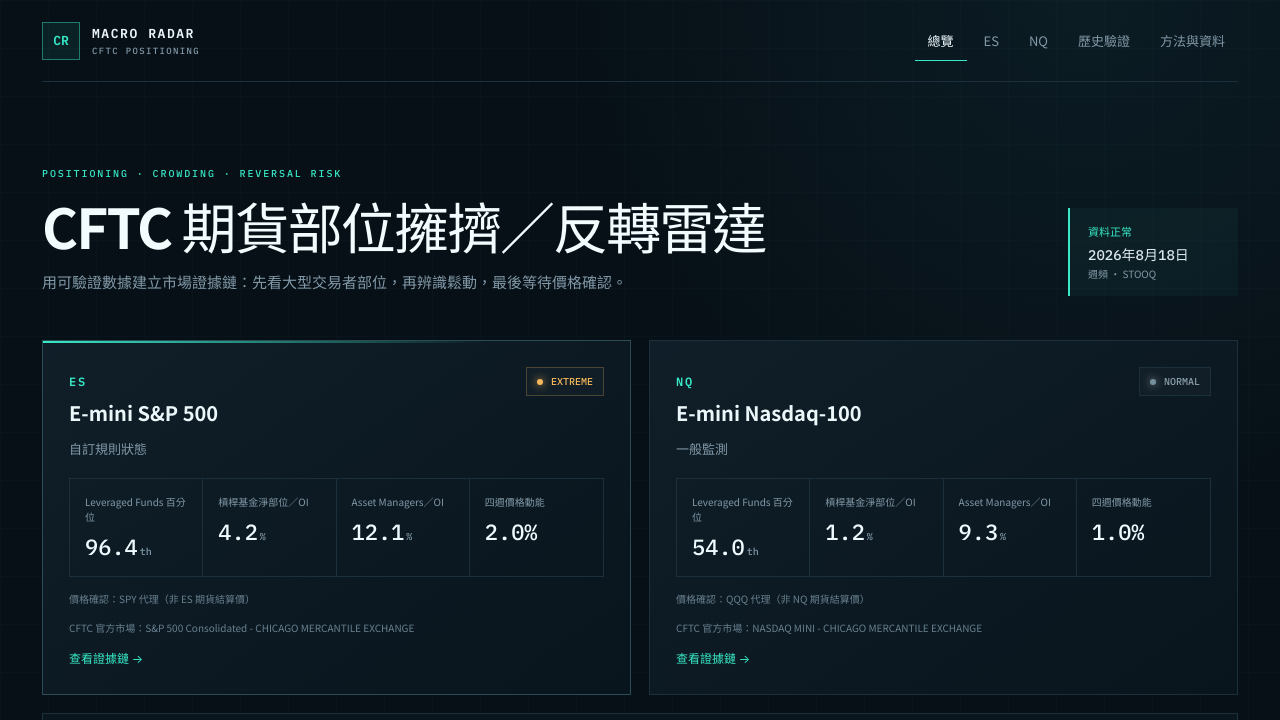
Test: COT Radar › navigates to historical validation and methodology
The image size is (1280, 720).
Expected: the heading "E-mini S&P 500" is shown, [69,398,218,427]
Click the button "歷史驗證" at coordinates (1104, 40), box [1065,20,1143,60]
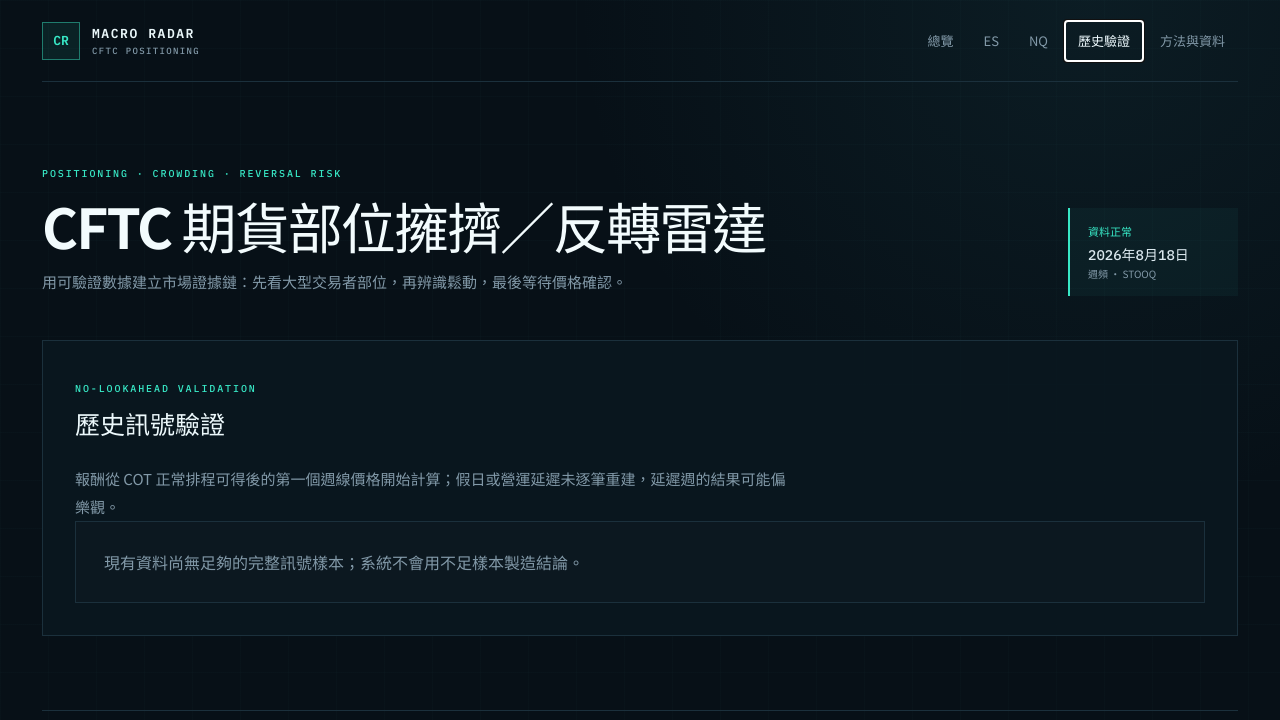
Result: the heading "歷史訊號驗證" is shown at [75,405,225,441]
Click the button "方法與資料" at coordinates (1192, 40), box [1147,20,1238,60]
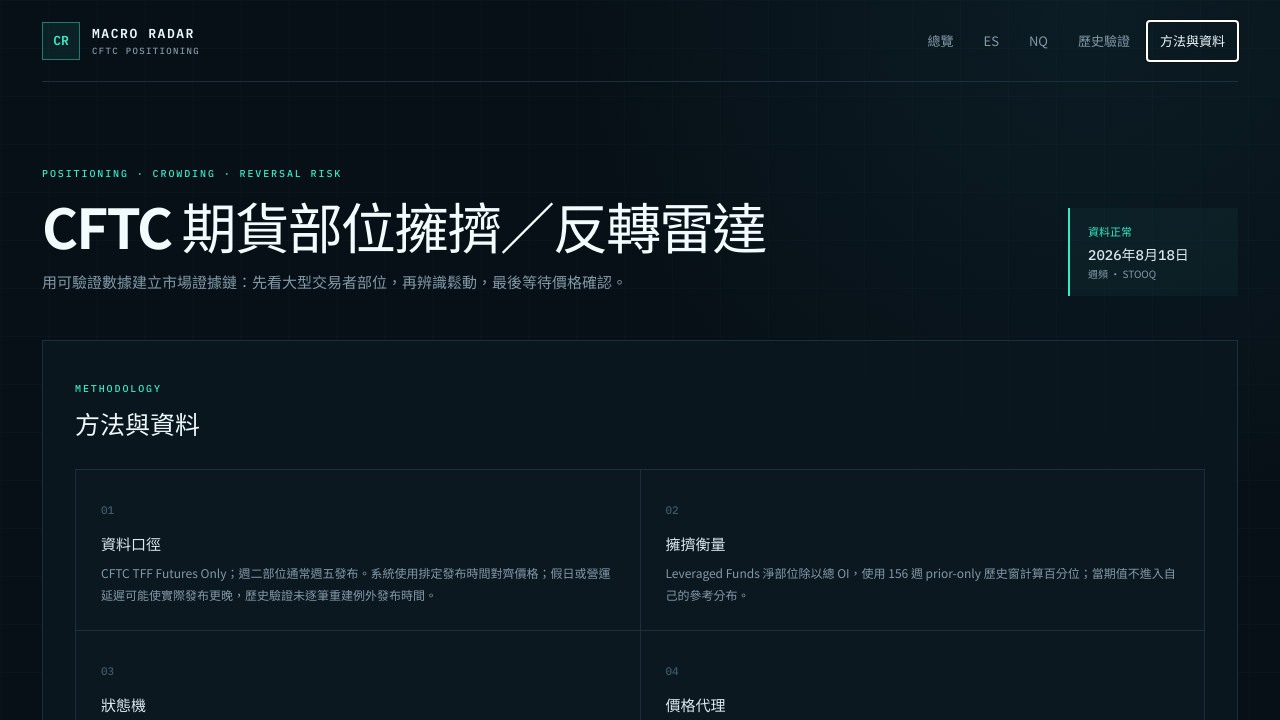
Result: the text "prior-only" is shown at [666,564,1176,603]
